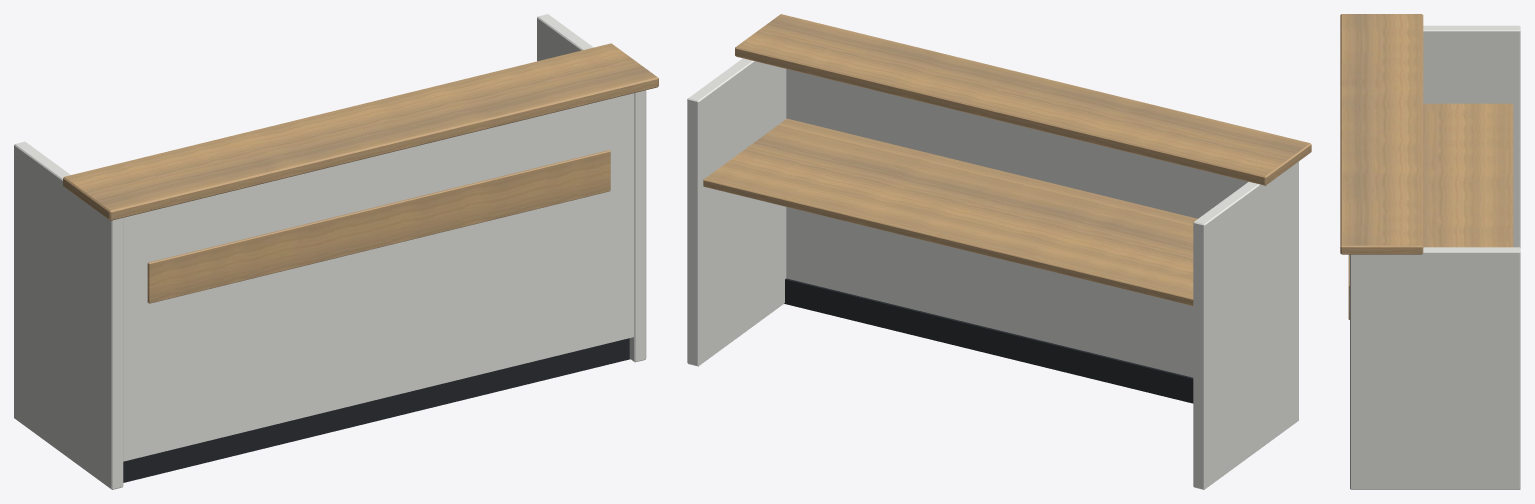
The model's file is reception-counter.glb.
3 renders of one model, left to right at view 1: azimuth 30°, elevation 25°; view 2: azimuth 150°, elevation 25°; view 3: azimuth 270°, elevation 25°, orthographic. The views are drawn at different scales.
Visible parts, largest first — view 1: reception-counter; view 2: reception-counter; view 3: reception-counter.
Part boxes in pixels (left/top/right/bottom): reception-counter: left=14, top=14, right=658, bottom=489; reception-counter: left=687, top=14, right=1311, bottom=489; reception-counter: left=1340, top=14, right=1520, bottom=489.
Bounding box in the file's own units: 2.26 × 1.12 × 0.74.
3 materials, 1 textured.
